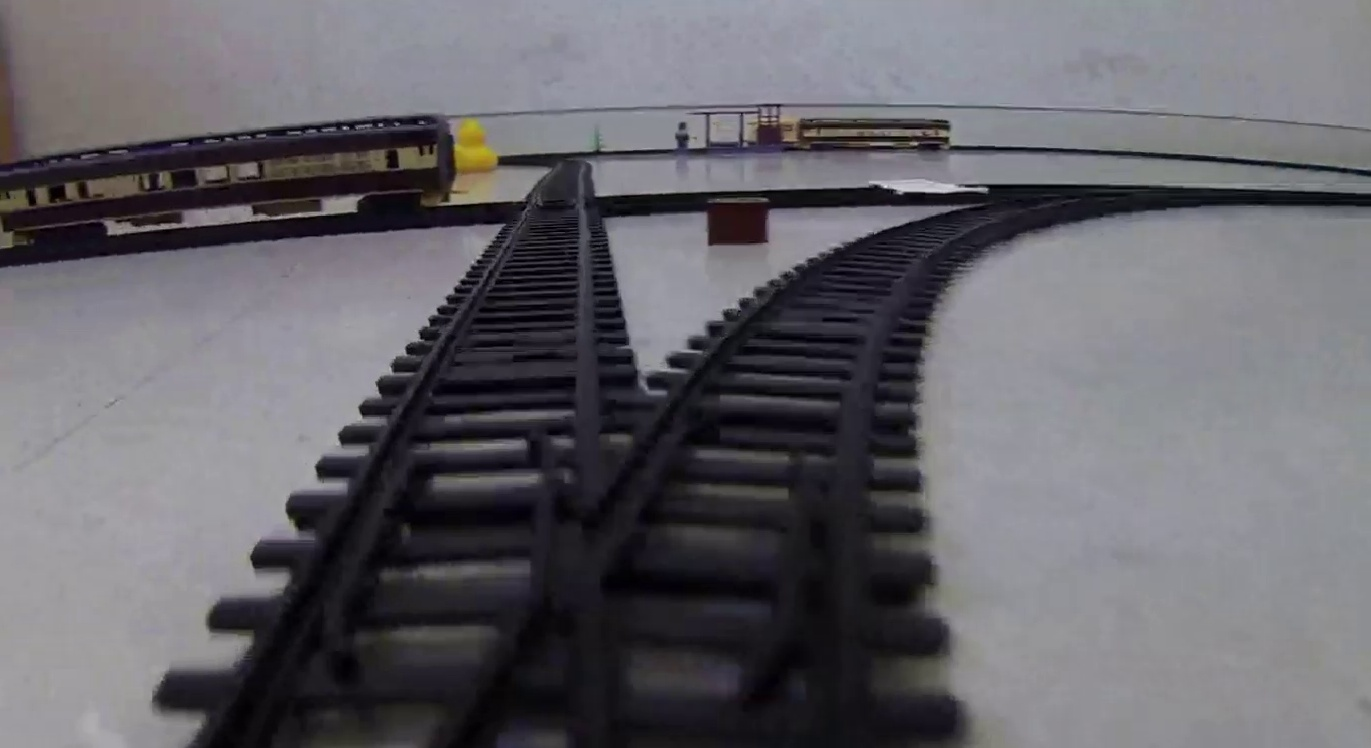box: (707, 199, 768, 241)
web: (868, 177, 986, 194)
